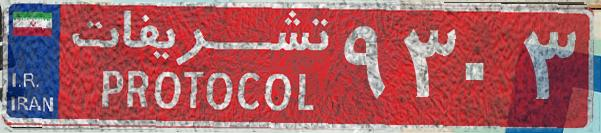0: (460, 20, 520, 115)
3: (400, 20, 460, 115), (520, 20, 580, 115)
9: (340, 20, 400, 115)
تشریفات: (60, 8, 340, 125)
